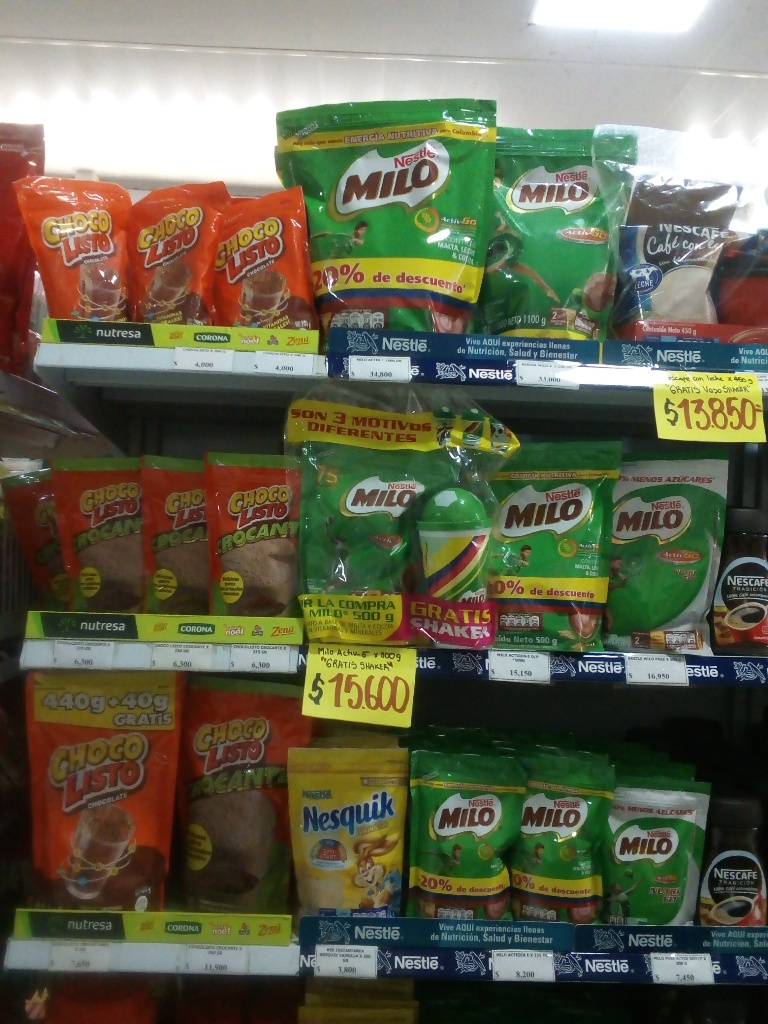COL0170102DYP25000: (211, 451, 308, 616)
COL0170102DYP50000: (184, 672, 311, 916)
COL0170103DYP20000: (19, 177, 142, 331)
COL0170203DYP25000: (407, 749, 519, 930)
COL0170203DYP50000: (488, 426, 620, 657)
COL0170205DYP20000: (599, 781, 708, 934)
COL0170205DYP50000: (603, 451, 734, 657)
COL0170306DYP20000: (291, 743, 406, 922)
